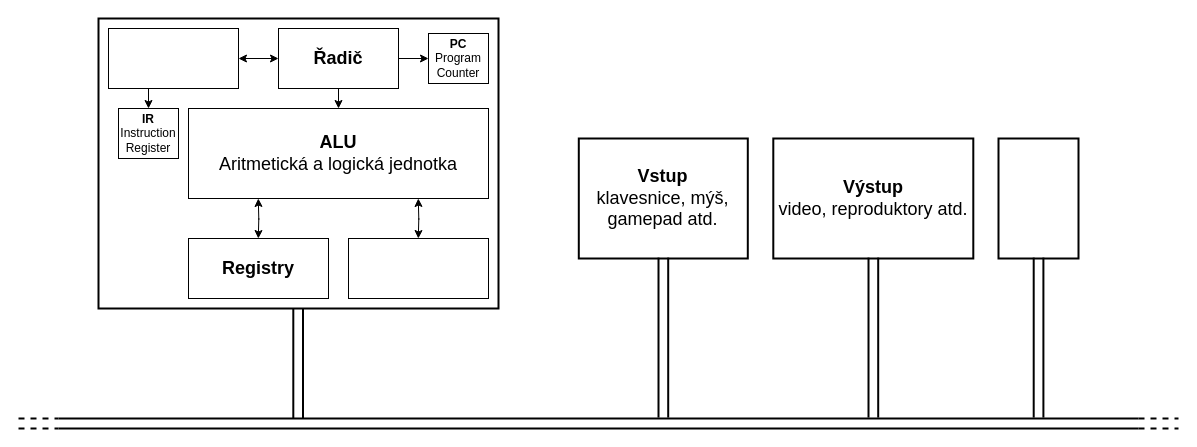
The diagram is 1197 pixels wide and 447 high, and some of its shapes have lost their labels. Here are the shapes that lost their labels. From the top down, the centre of each, then its label:
the point at 173,58: Dekodér instrukcí
the point at 1038,198: RAM
the point at 418,268: Zásobník
